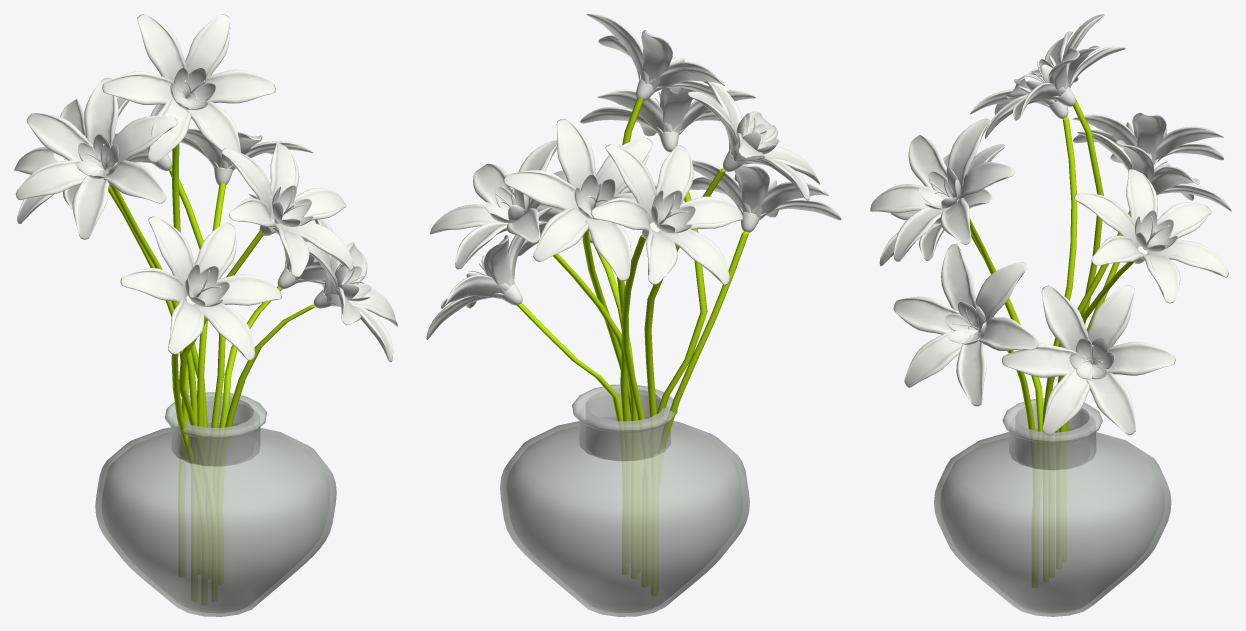
File: hua1-wutai.fbx
The picture shows the model from 3 angles, left to right: view 1: azimuth 30°, elevation 25°; view 2: azimuth 150°, elevation 25°; view 3: azimuth 270°, elevation 25°; orthographic projection. The views are drawn at different scales.
Parts seen in each view (by area): view 1: Line01, ChamferCyl20, ChamferCyl39, Sphere110, Sphere117, ChamferCyl28, Sphere105, Sphere70, Sphere107, Sphere71, ChamferCyl12, Sphere91 (+29 smaller); view 2: Line01, ChamferCyl16, ChamferCyl20, Sphere42, Sphere52, ChamferCyl11, ChamferCyl32, ChamferCyl24, Sphere43, Sphere44, Sphere65, Sphere58 (+31 smaller); view 3: Line01, ChamferCyl32, Sphere23, Sphere17, Sphere16, Sphere18, Sphere24, Sphere15, Sphere95, Sphere96, Sphere92, Sphere102 (+35 smaller).
Boxes of the visible parts, <box> form: Line01: <box>95,392,336,616</box>; ChamferCyl20: <box>109,184,197,601</box>; ChamferCyl39: <box>179,231,263,600</box>; Sphere110: <box>137,14,187,84</box>; Sphere117: <box>185,14,230,80</box>; ChamferCyl28: <box>216,304,315,583</box>; Sphere105: <box>102,71,173,104</box>; Sphere70: <box>26,113,93,160</box>; Sphere107: <box>205,69,275,103</box>; Sphere71: <box>15,160,89,199</box>; ChamferCyl12: <box>168,167,225,578</box>; Sphere91: <box>148,216,194,296</box>; Line01: <box>500,384,749,616</box>; ChamferCyl16: <box>621,235,651,583</box>; ChamferCyl20: <box>644,168,725,595</box>; Sphere42: <box>503,170,578,211</box>; Sphere52: <box>556,119,596,192</box>; ChamferCyl11: <box>538,240,638,578</box>; ChamferCyl32: <box>617,97,643,562</box>; ChamferCyl24: <box>658,231,748,589</box>; Sphere43: <box>533,207,590,261</box>; Sphere44: <box>585,218,631,281</box>; Sphere65: <box>605,144,656,223</box>; Sphere58: <box>657,229,729,285</box>; Line01: <box>934,398,1171,616</box>; ChamferCyl32: <box>1058,100,1103,557</box>; Sphere23: <box>1041,285,1089,354</box>; Sphere17: <box>1042,368,1091,435</box>; Sphere16: <box>1002,343,1075,377</box>; Sphere18: <box>1086,370,1135,435</box>; Sphere24: <box>1087,285,1134,351</box>; Sphere15: <box>1107,341,1175,375</box>; Sphere95: <box>893,296,959,334</box>; Sphere96: <box>904,330,966,387</box>; Sphere92: <box>941,243,976,313</box>; Sphere102: <box>974,262,1027,324</box>.
Bounding box in the file's own units: 40.97 × 66.33 × 38.68.
